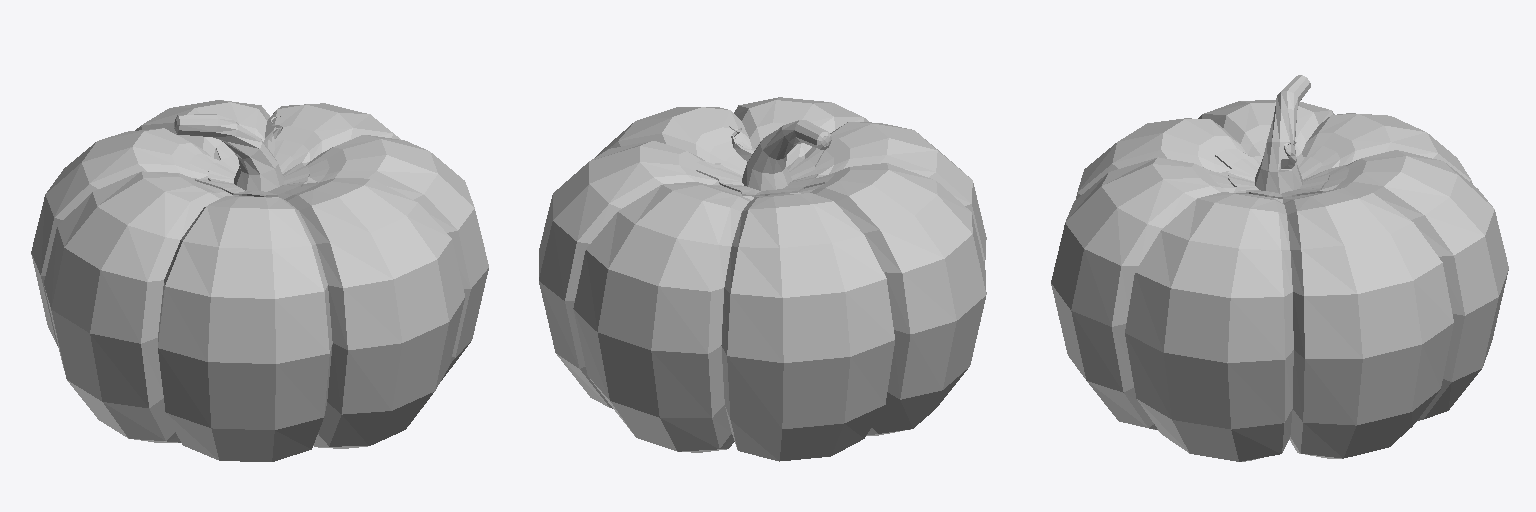
The model's file is pumpk.obj.
The picture shows the model from 3 angles: view 1: azimuth 30°, elevation 25°; view 2: azimuth 150°, elevation 25°; view 3: azimuth 270°, elevation 25°; orthographic projection.
Visible parts, largest first — view 1: pumpkin:Mesh; view 2: pumpkin:Mesh; view 3: pumpkin:Mesh.
Boxes of the visible parts, x1,y1,x2,y2 form: pumpkin:Mesh: [31, 100, 488, 461]; pumpkin:Mesh: [539, 97, 986, 461]; pumpkin:Mesh: [1051, 75, 1508, 461].
Bounding box in the file's own units: 1.47 × 1.06 × 1.48.